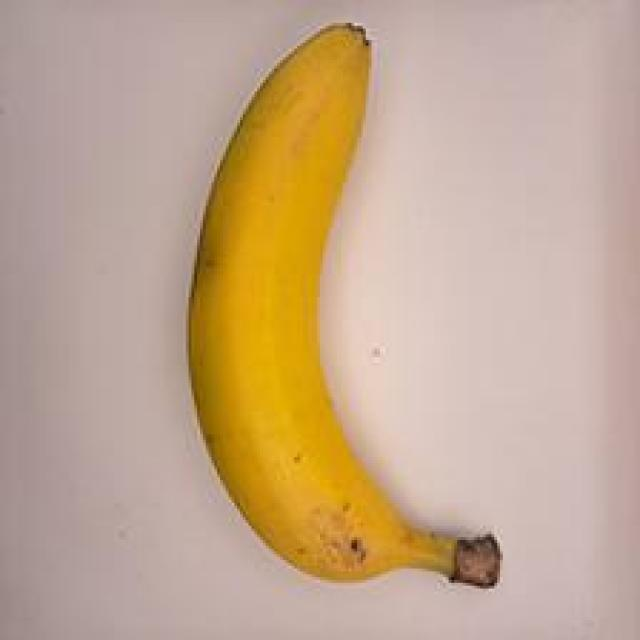Ripe: (121, 17, 545, 607)
